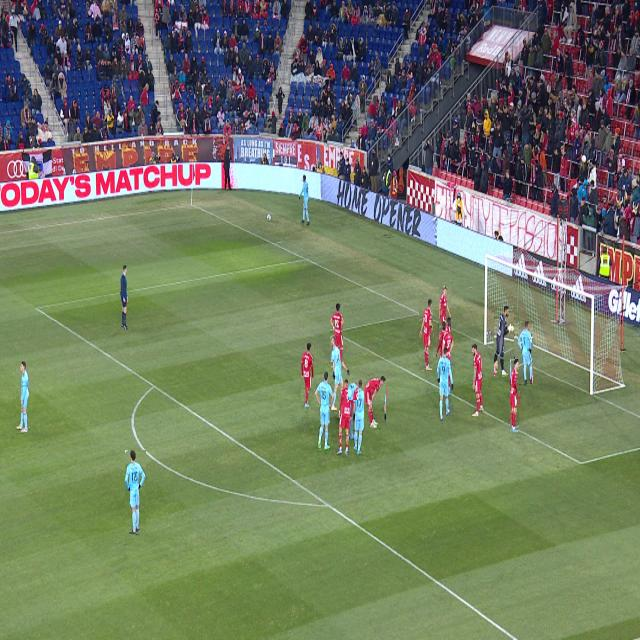goalkeeper: (495, 306, 514, 376)
player: (125, 450, 146, 534), (315, 372, 334, 451), (331, 336, 349, 411), (336, 379, 353, 454), (437, 347, 453, 420), (365, 376, 386, 428), (353, 379, 367, 454), (518, 321, 533, 384), (420, 299, 433, 370), (472, 344, 484, 417), (17, 361, 29, 432), (301, 343, 314, 408), (331, 303, 343, 362), (511, 360, 519, 432), (439, 286, 451, 332), (442, 322, 454, 362), (436, 318, 445, 359), (348, 383, 358, 400), (349, 407, 354, 439), (448, 369, 450, 395), (331, 366, 333, 368)
referee: (120, 265, 128, 330)
